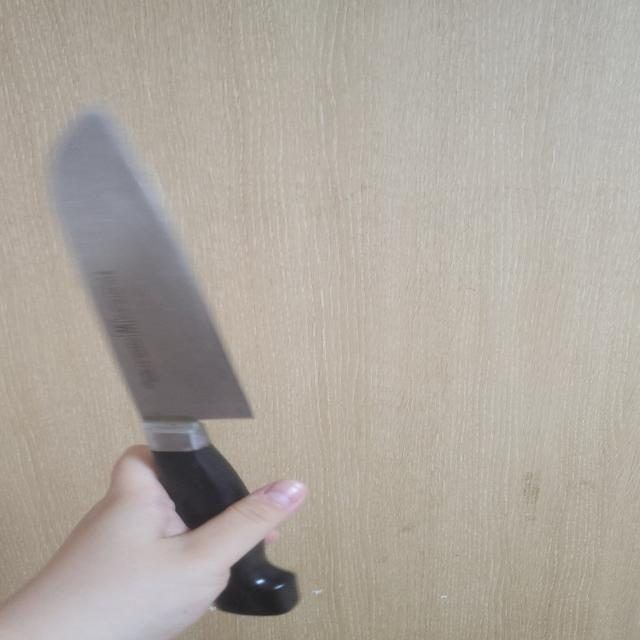knife: (54, 109, 298, 618)
